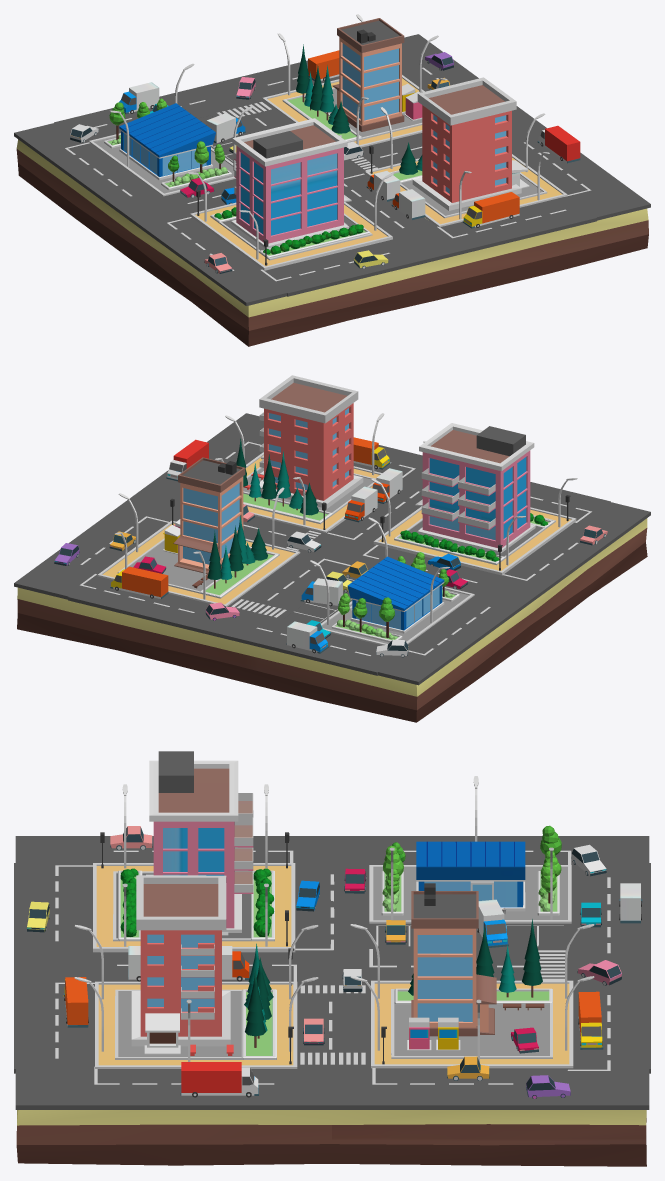
Rendered from 3dtest-transformed.glb.
3 views of the same model, one above another, from view 1: azimuth 30°, elevation 25°; view 2: azimuth 150°, elevation 25°; view 3: azimuth 270°, elevation 25° (orthographic). The views are drawn at different scales.
Parts seen in each view (by area): view 1: CAR_03_1_World ap_0, Car_08_4_World ap.8_0; view 2: CAR_03_1_World ap_0, Car_08_4_World ap.8_0; view 3: CAR_03_1_World ap_0, Car_08_4_World ap.8_0.
Boxes of the visible parts, <box> form: CAR_03_1_World ap_0: <box>14,14,650,346</box>; Car_08_4_World ap.8_0: <box>119,50,580,228</box>; CAR_03_1_World ap_0: <box>14,375,650,722</box>; Car_08_4_World ap.8_0: <box>110,437,402,653</box>; CAR_03_1_World ap_0: <box>14,751,650,1166</box>; Car_08_4_World ap.8_0: <box>63,883,642,1097</box>.
Bounding box in the file's own units: 2192 × 744 × 2192.
2 materials, 2 textured.
